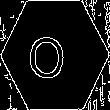O_N: (36, 29, 74, 81)
